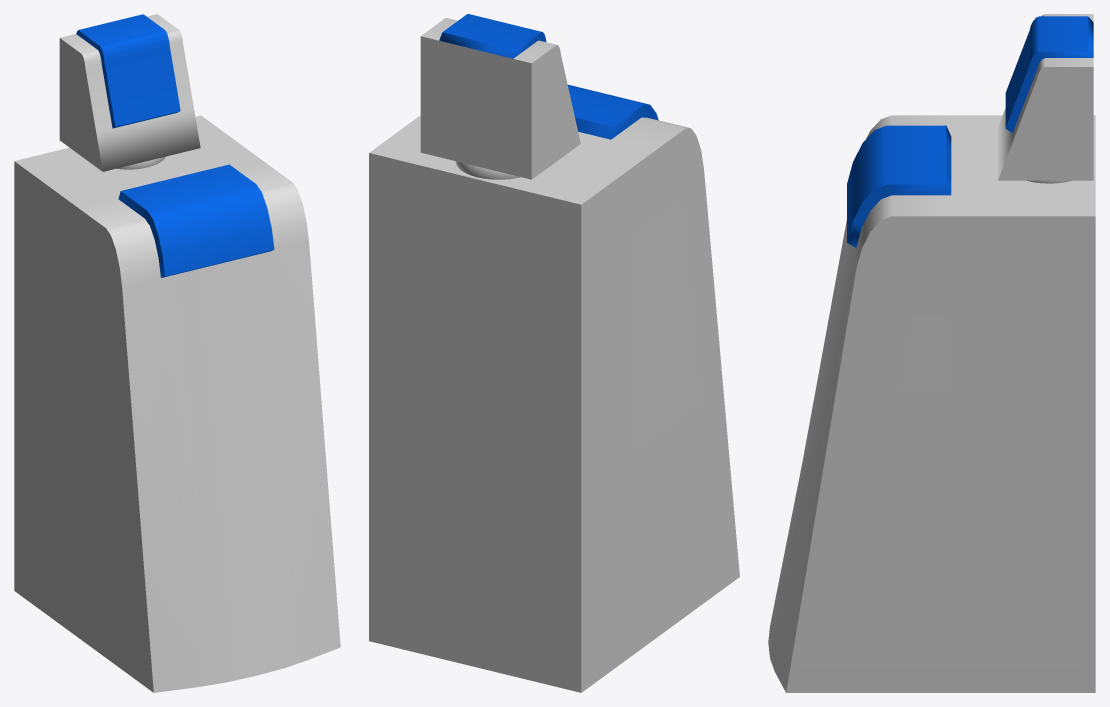
The model's file is PH_ADOCISSEUR_0519x071x145 - Copy.fbx.
The picture shows the model from 3 angles, left to right: view 1: azimuth 30°, elevation 25°; view 2: azimuth 150°, elevation 25°; view 3: azimuth 270°, elevation 25°; orthographic projection. The views are drawn at different scales.
Visible parts, largest first — view 1: PH_ADOCISSEUR_0519x071x145; view 2: PH_ADOCISSEUR_0519x071x145; view 3: PH_ADOCISSEUR_0519x071x145.
Part boxes in pixels (x1,y1,x2,y2): PH_ADOCISSEUR_0519x071x145: [14, 14, 340, 692]; PH_ADOCISSEUR_0519x071x145: [369, 14, 739, 692]; PH_ADOCISSEUR_0519x071x145: [768, 14, 1095, 692].
Size of the model in its own units: 51.9 by 145 by 70.99.
